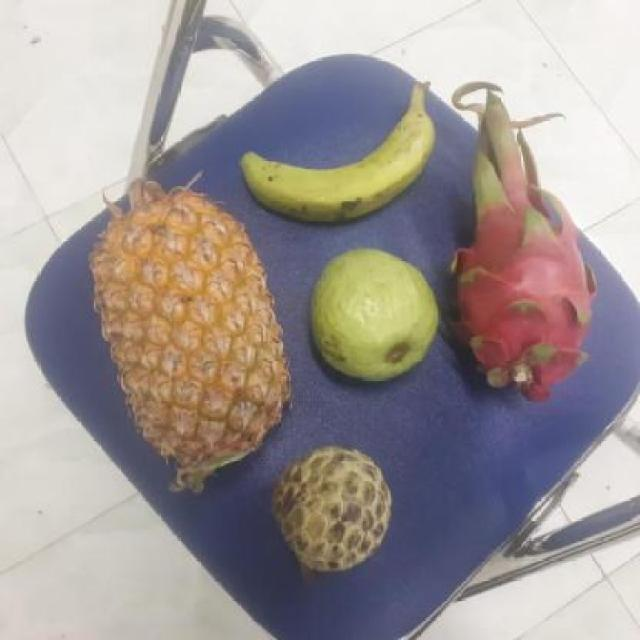banana: (239, 93, 435, 222)
dragon fruit: (437, 179, 598, 390)
guava: (302, 250, 440, 378)
pineapple: (84, 182, 285, 481)
sugar apple: (267, 442, 391, 570)
